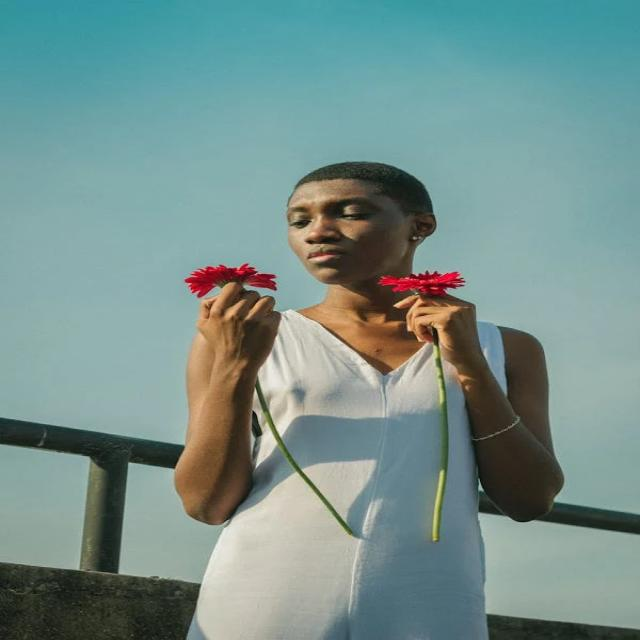Real human 2: (160, 148, 588, 640)
